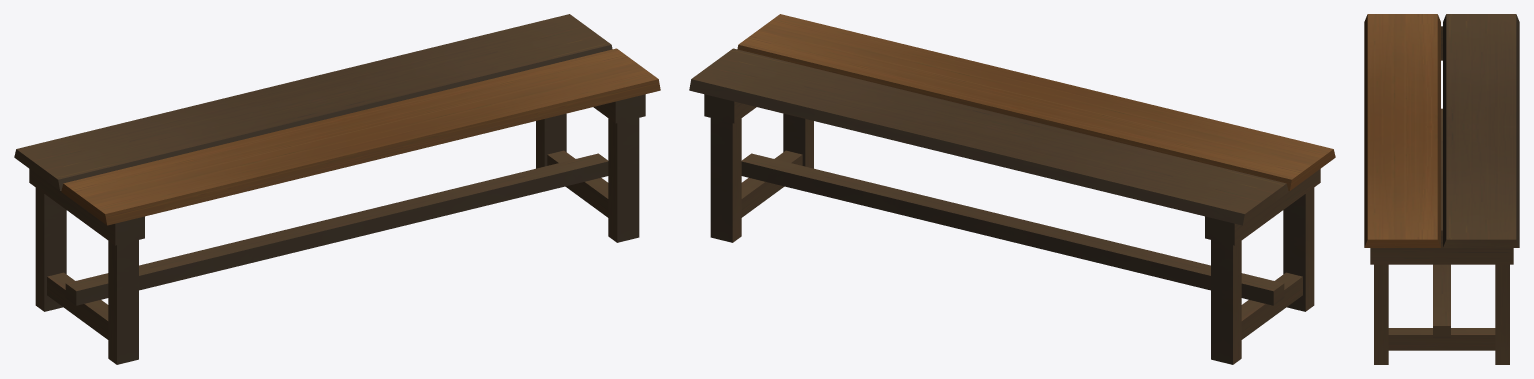
Rendered from SK_Bench.FBX.
The picture shows the model from 3 angles, left to right: view 1: azimuth 30°, elevation 25°; view 2: azimuth 150°, elevation 25°; view 3: azimuth 270°, elevation 25°; orthographic projection. The views are drawn at different scales.
Visible parts, largest first — view 1: SK_Bench; view 2: SK_Bench; view 3: SK_Bench.
Part boxes in pixels (x1,y1,x2,y2): SK_Bench: [14, 14, 660, 364]; SK_Bench: [689, 14, 1335, 364]; SK_Bench: [1364, 14, 1519, 364].
Bounding box in the file's own units: 132 × 35.89 × 38.43.
